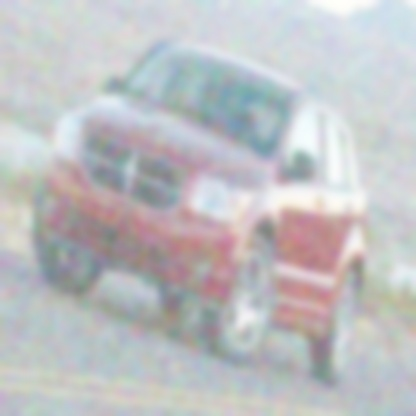Vehicle: (34, 38, 369, 388)
